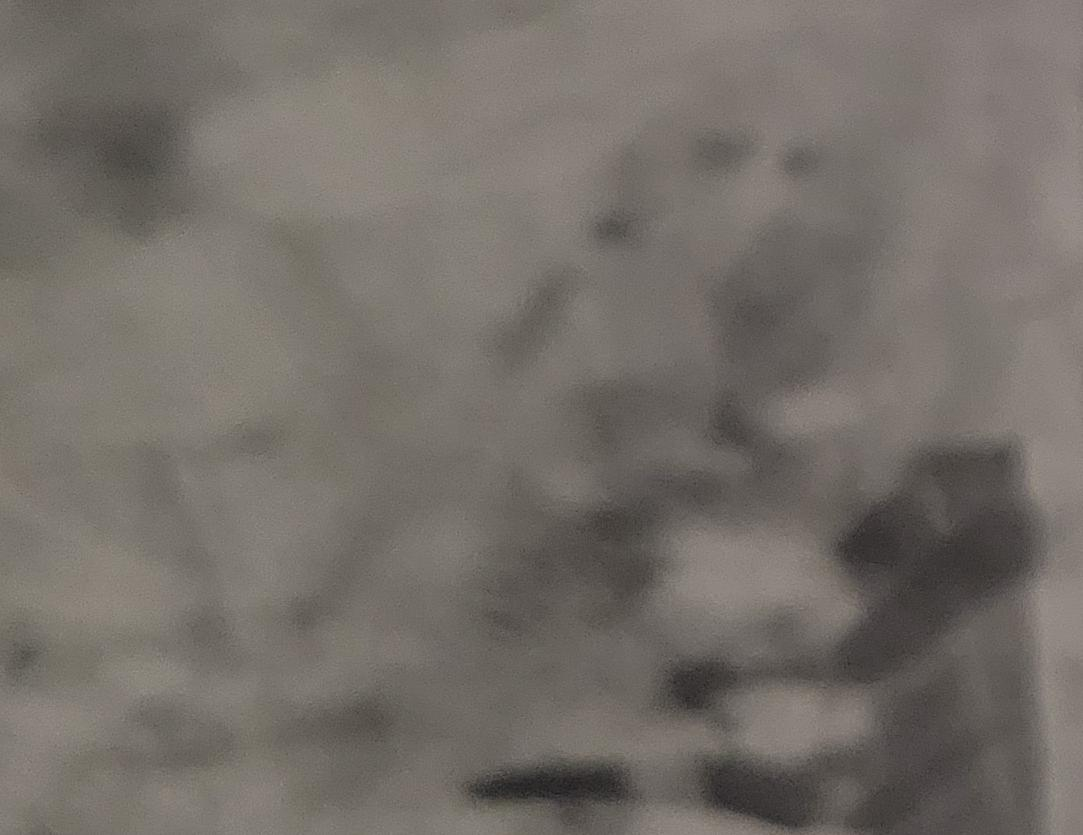Chip: (1, 407, 762, 835)
